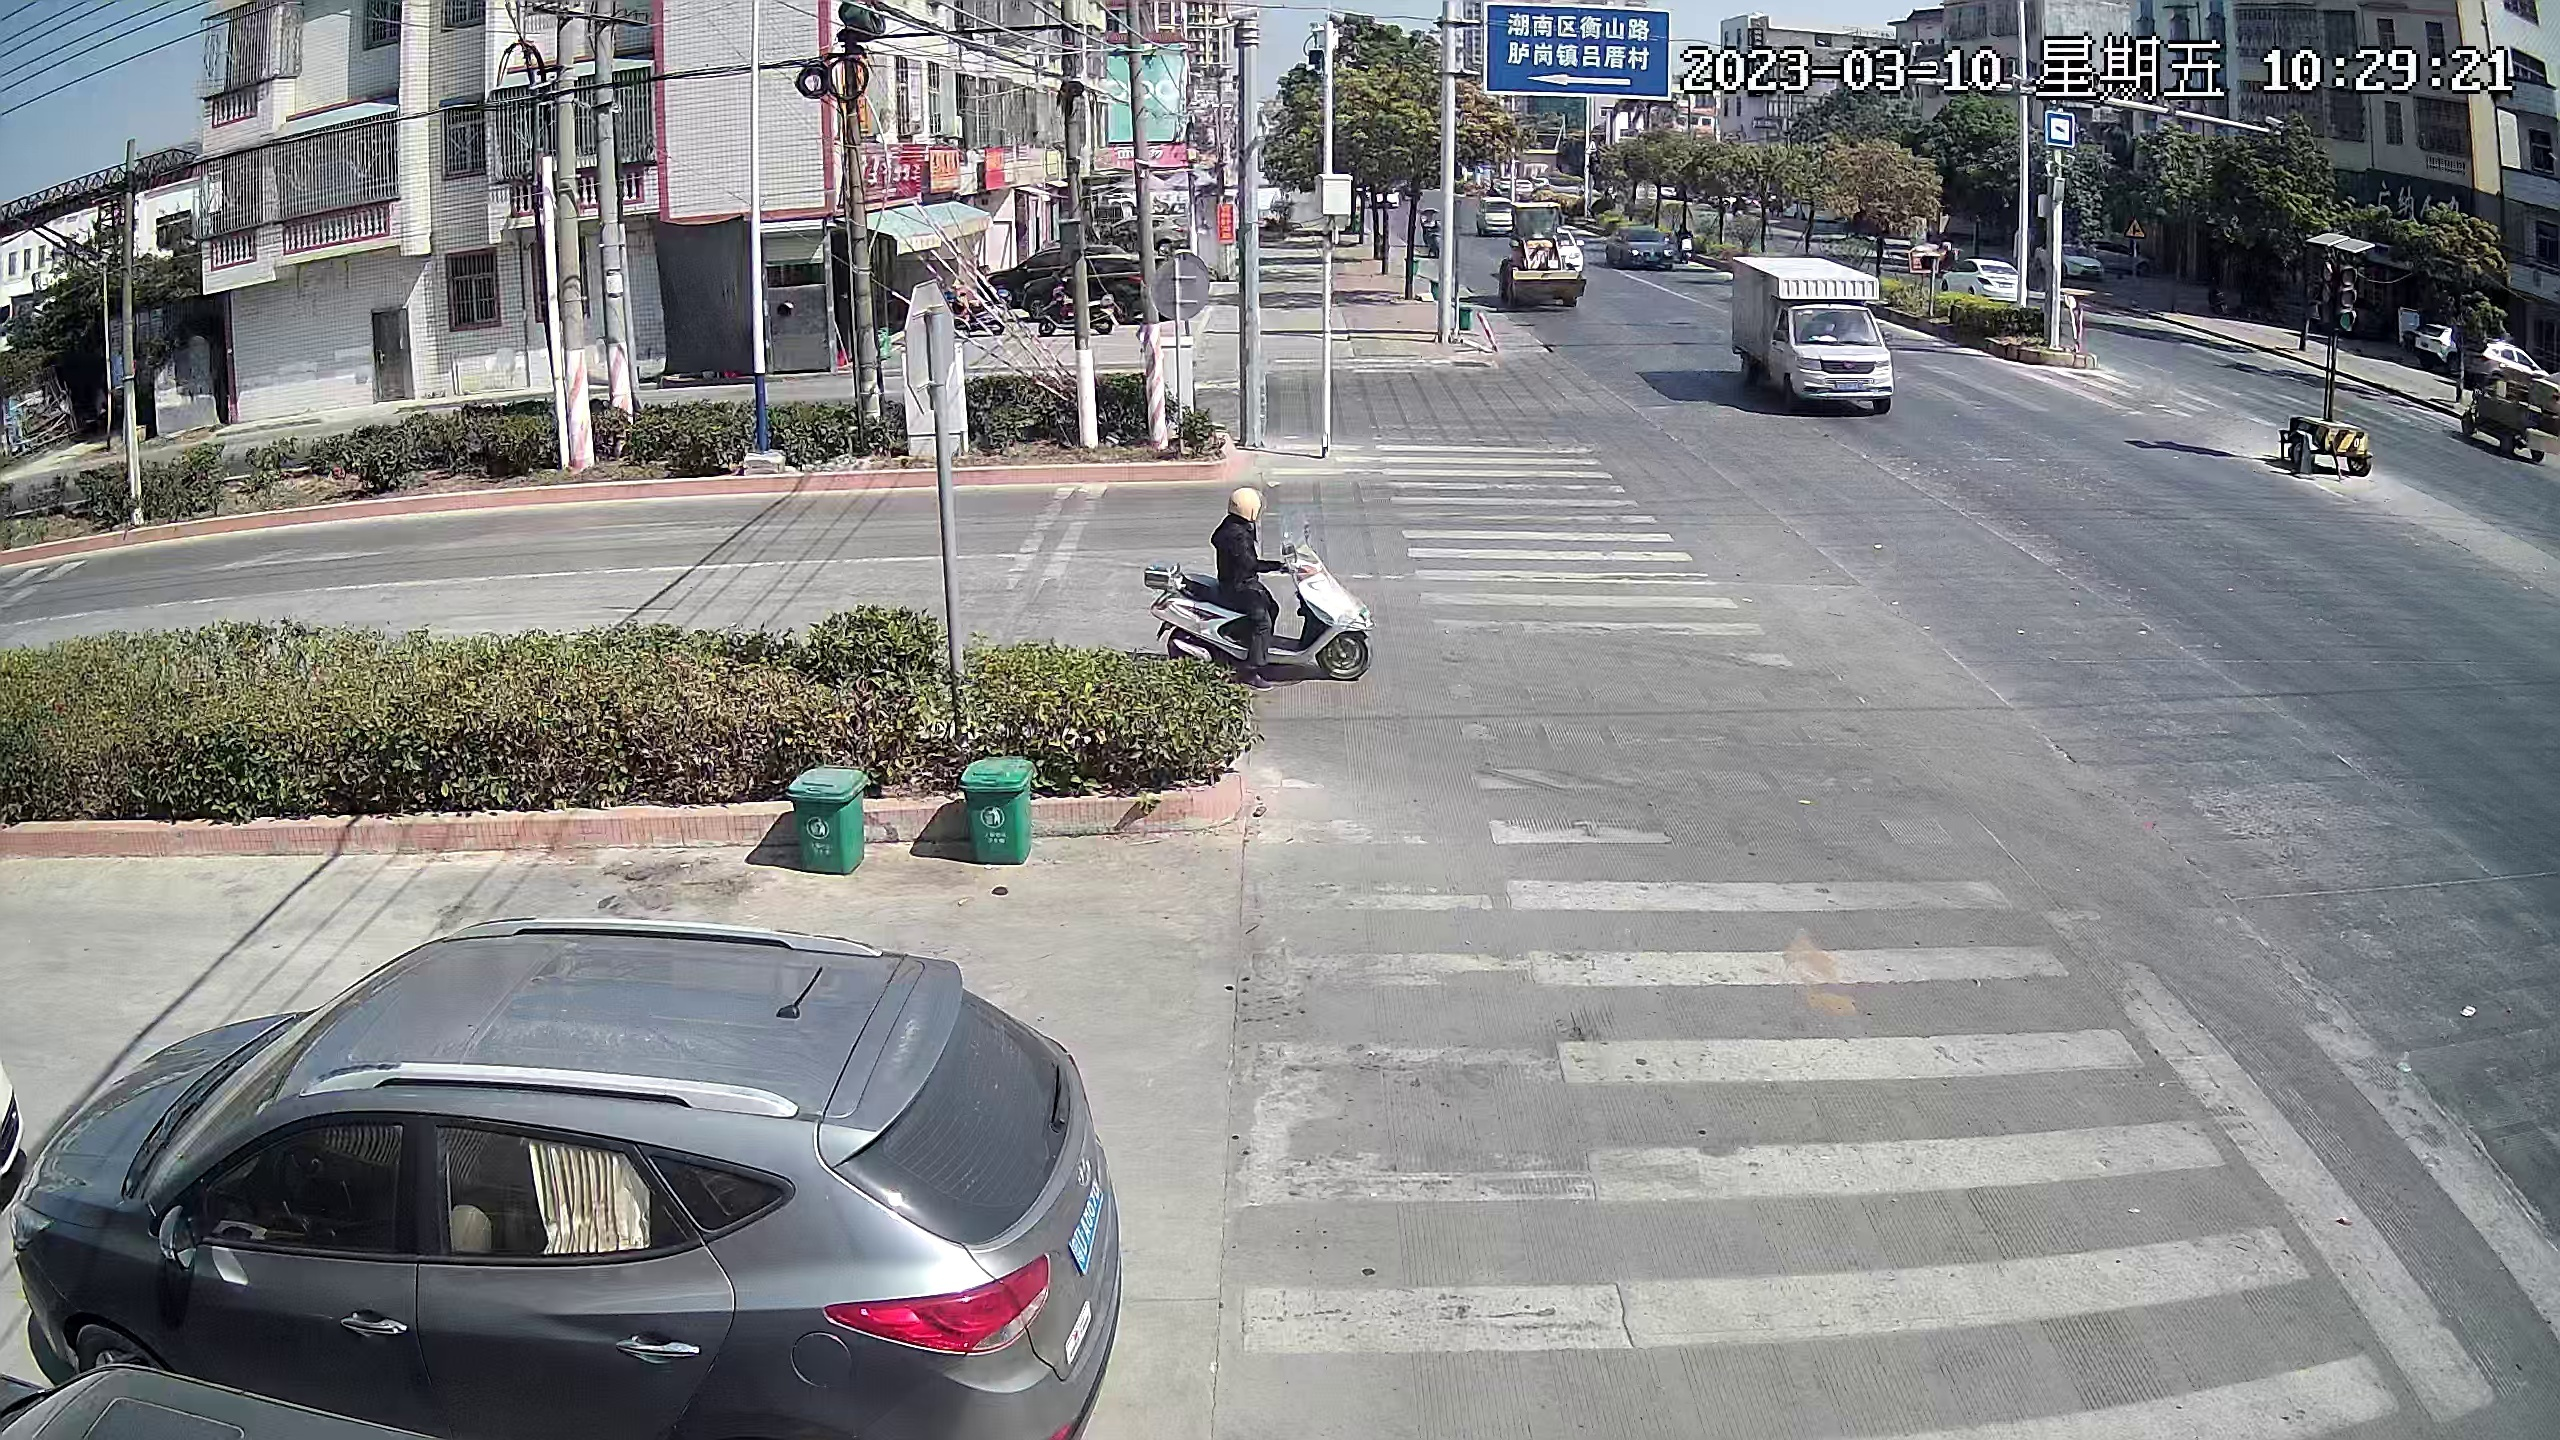motorcycle: (1159, 482, 1374, 705), (1044, 283, 1112, 333), (1410, 203, 1448, 255)
person: (1208, 475, 1284, 685)
sedan: (1005, 243, 1133, 290), (2477, 327, 2537, 389), (1610, 219, 1672, 274), (2422, 313, 2454, 364)
suv: (42, 924, 1123, 1425)
truck: (1730, 249, 1900, 422), (1500, 200, 1585, 312)
van: (1473, 192, 1505, 239)
